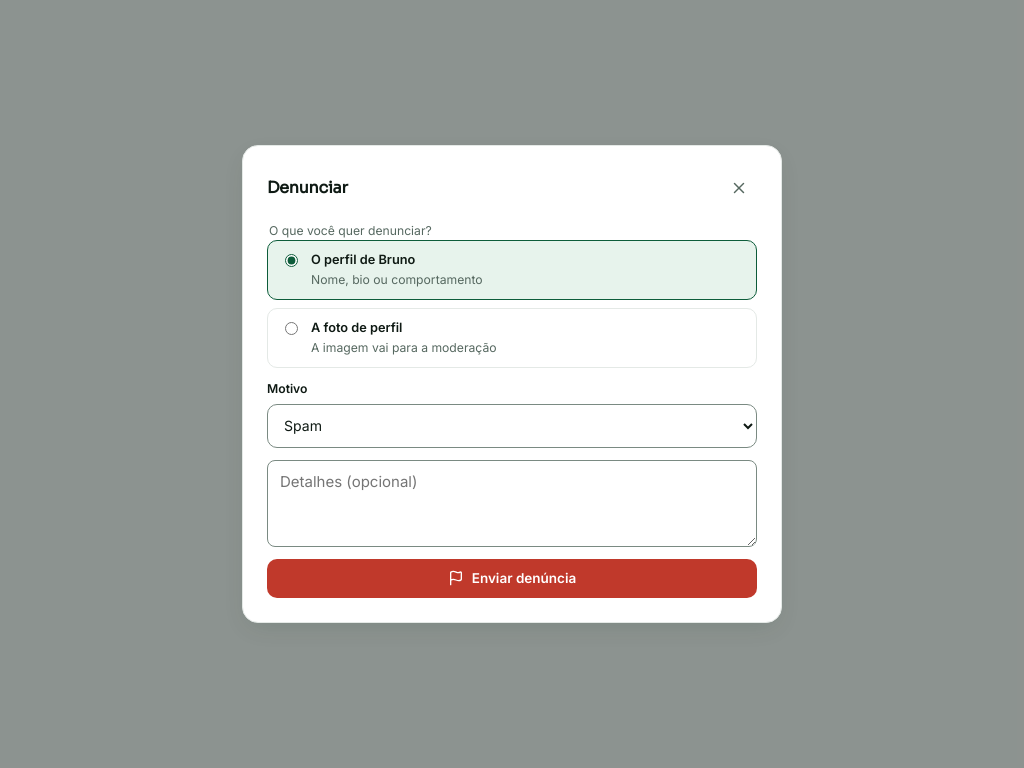
Test: denúncia com mais de um alvo › voltar para o perfil esconde a imagem e denuncia o perfil, com o motivo que ficou
Click the radio button labelled "A foto de perfil A imagem vai para a moderação".
click(292, 328)  # box [285,322,298,335]
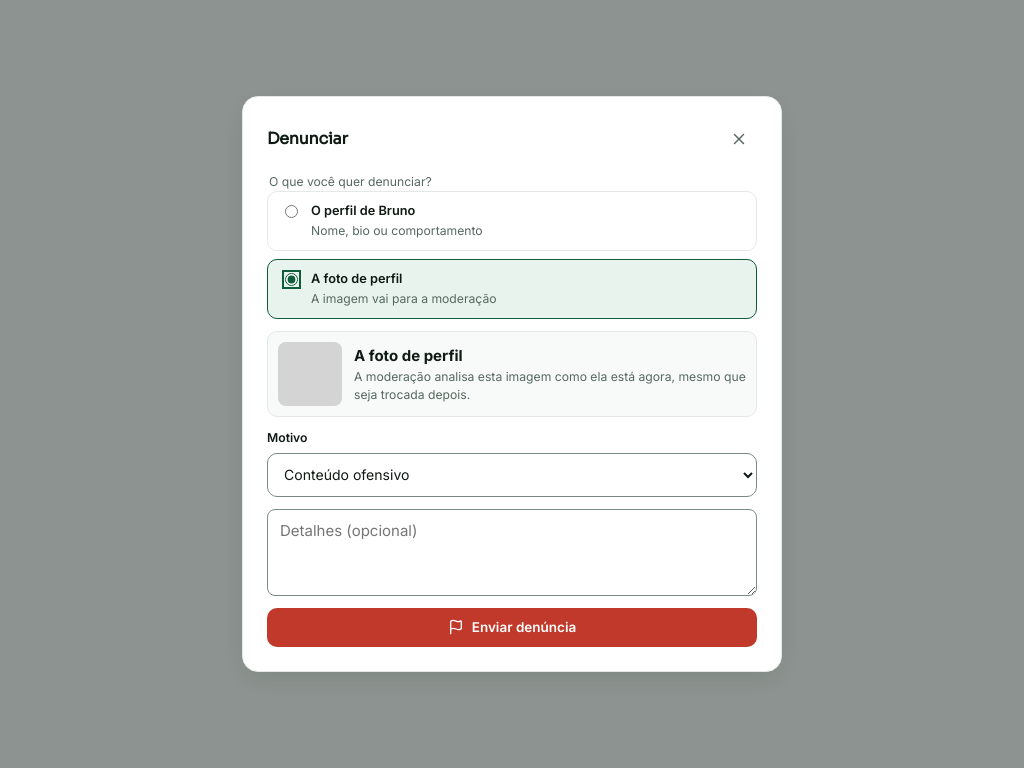
Click the radio button labelled "O perfil de Bruno Nome, bio ou comportamento".
click(292, 211)  # box [285,205,298,218]
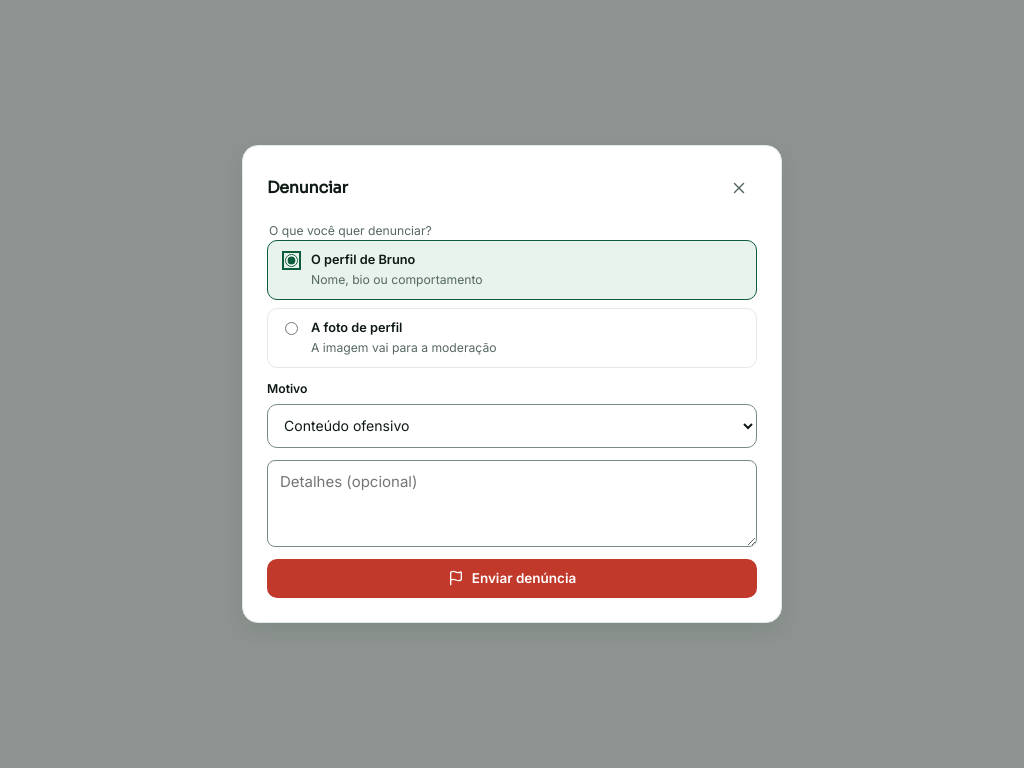
expect the dropdown labelled "Motivo" shows "Conteúdo ofensivo": met, box [267,404,757,448]
Click the button "Enviar denúncia".
click(512, 578)  # box [267,559,757,598]
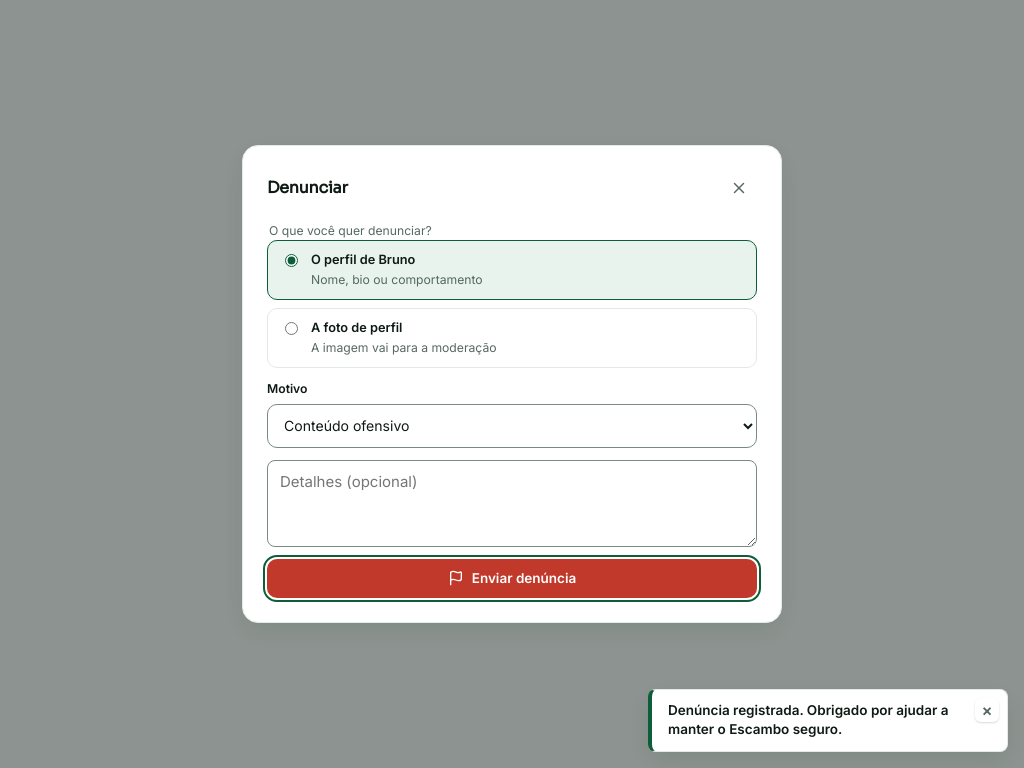
expect the text "Denúncia registrada. Obrigado por ajudar a manter o Escambo seguro." is shown: met, box [668,701,967,740]
